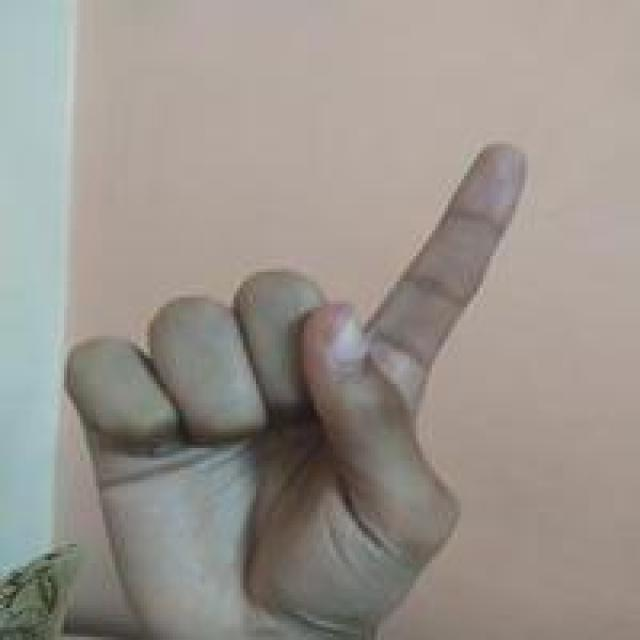Z: (62, 141, 526, 640)
